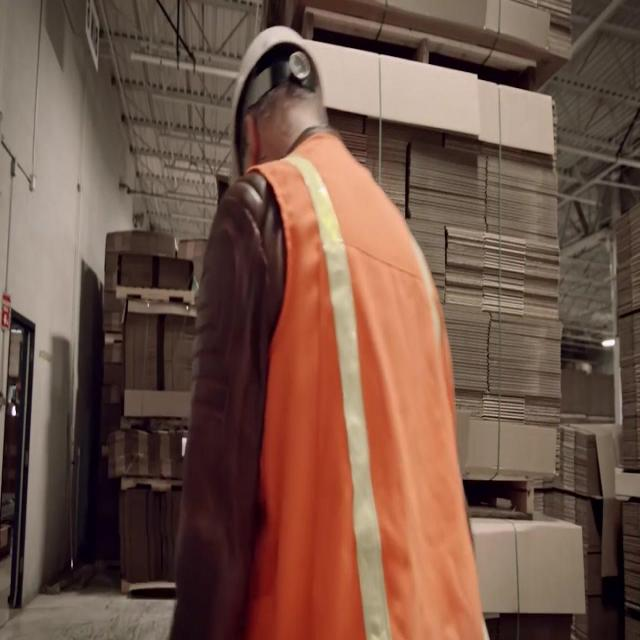Reflective-Jacket: (196, 130, 487, 636)
